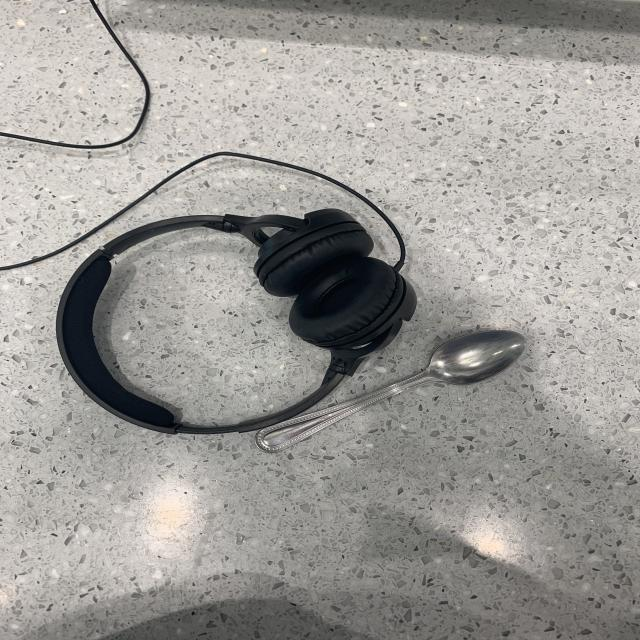Spoon: (249, 330, 531, 457)
